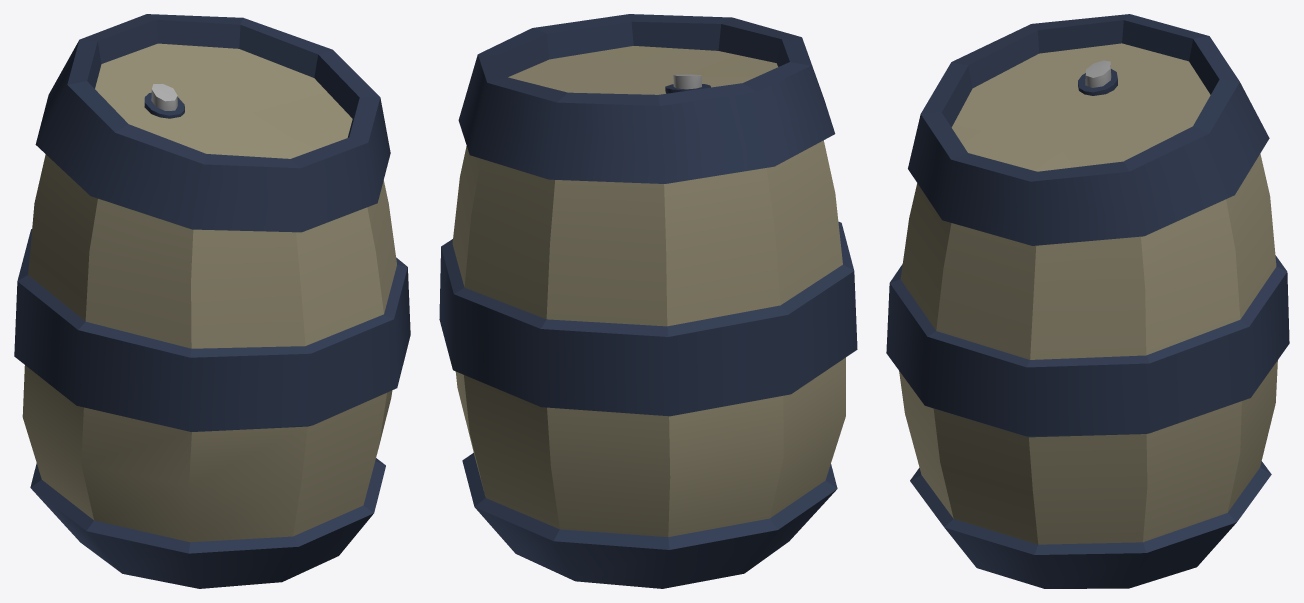
The model's file is Barrel.fbx.
3 renders of one model, left to right at view 1: azimuth 30°, elevation 25°; view 2: azimuth 150°, elevation 25°; view 3: azimuth 270°, elevation 25°, orthographic. The views are drawn at different scales.
Parts seen in each view (by area): view 1: Barrel, Cork; view 2: Barrel; view 3: Barrel, Cork.
Part boxes in pixels (x1,y1,x2,y2): Barrel: (14, 14, 410, 588); Cork: (151, 84, 177, 110); Barrel: (439, 14, 857, 588); Barrel: (886, 14, 1289, 588); Cork: (1085, 60, 1111, 87).
Bounding box in the file's own units: 93.45 × 125 × 98.18.
